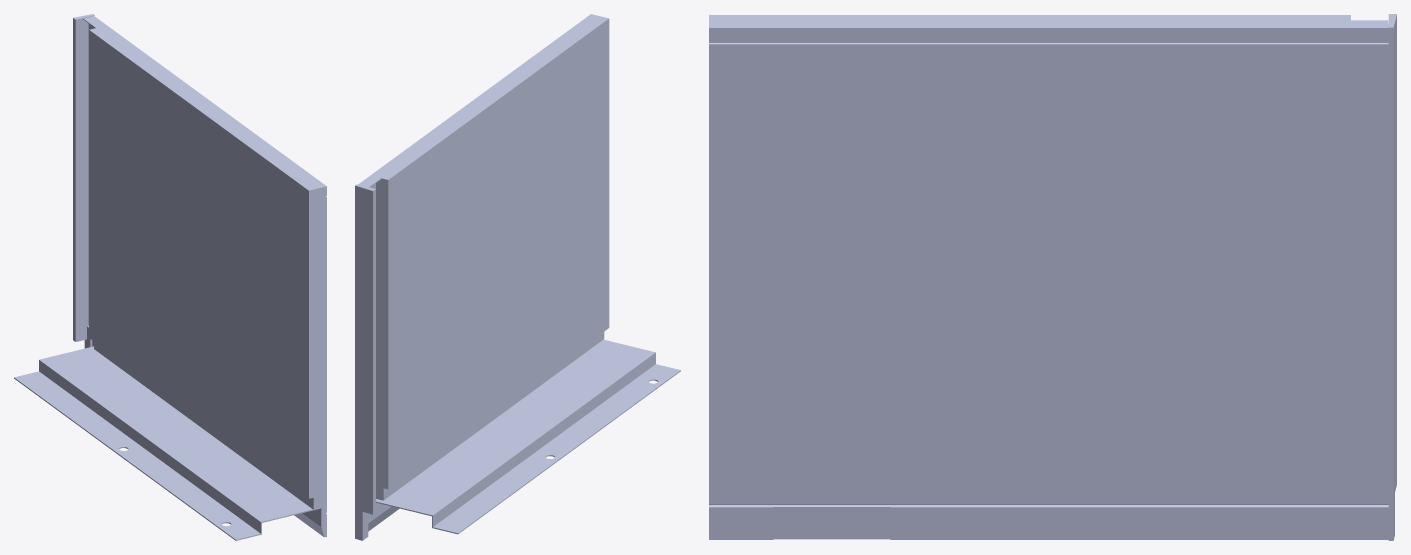
The model's file is lg-kava-F300-m.glb.
The picture shows the model from 3 angles, left to right: view 1: azimuth 30°, elevation 25°; view 2: azimuth 150°, elevation 25°; view 3: azimuth 270°, elevation 25°; orthographic projection. The views are drawn at different scales.
Visible parts, largest first — view 1: 42376866; view 2: 42376866; view 3: 42376866.
Part boxes in pixels (box(x1,y1,x2,y2)): 42376866: box(14, 14, 326, 540); 42376866: box(355, 14, 680, 540); 42376866: box(709, 14, 1396, 540).
Bounding box in the file's own units: 0.0653 × 0.2417 × 0.2935.
